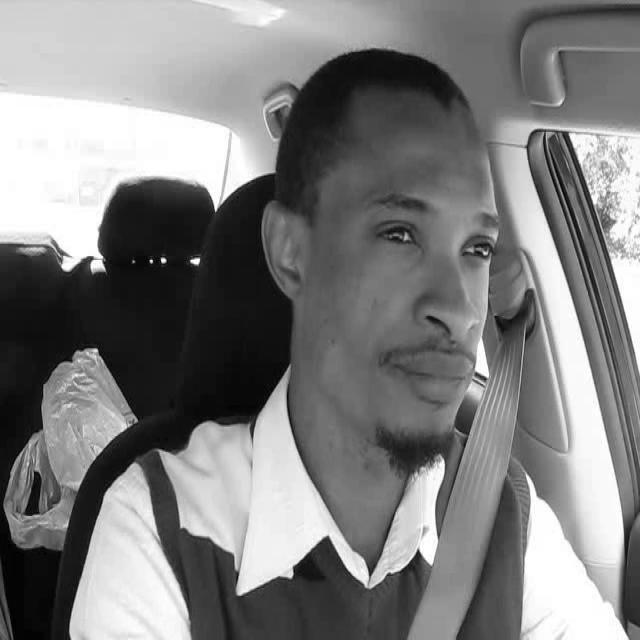no_yawn: (41, 20, 639, 640)
